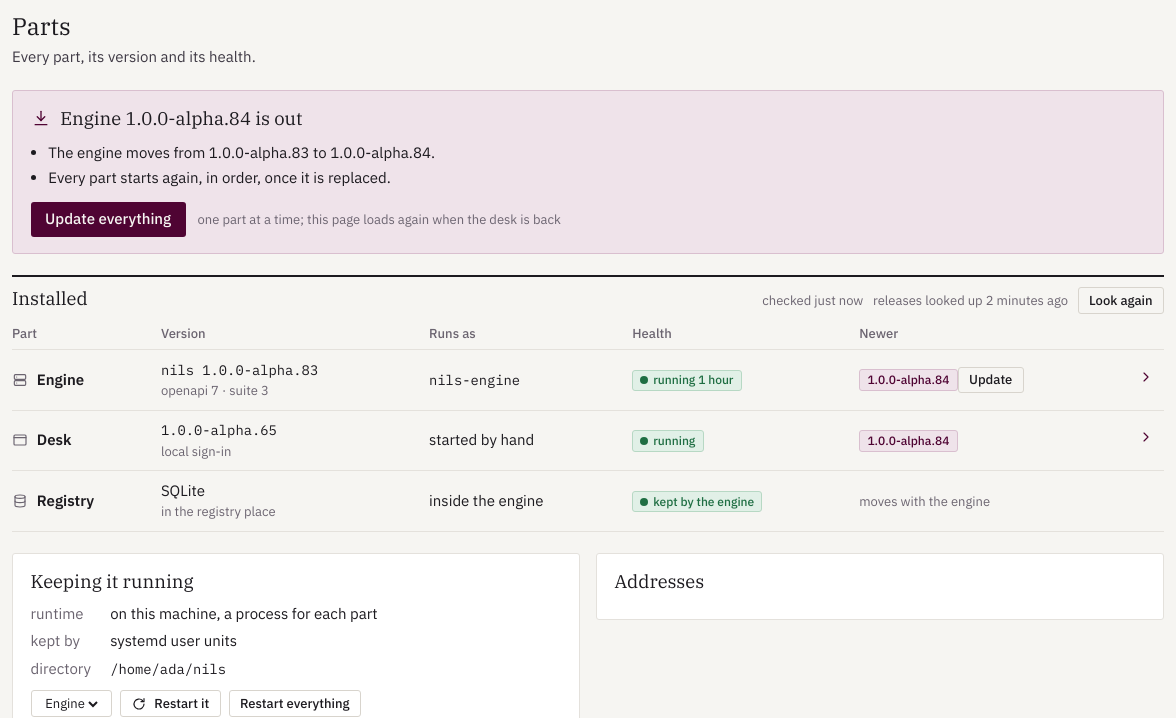
it: the Parts page › says why when the look could not be made
Step 1. Click the button "Look again" → [1121, 300], box [1078,287,1164,314]
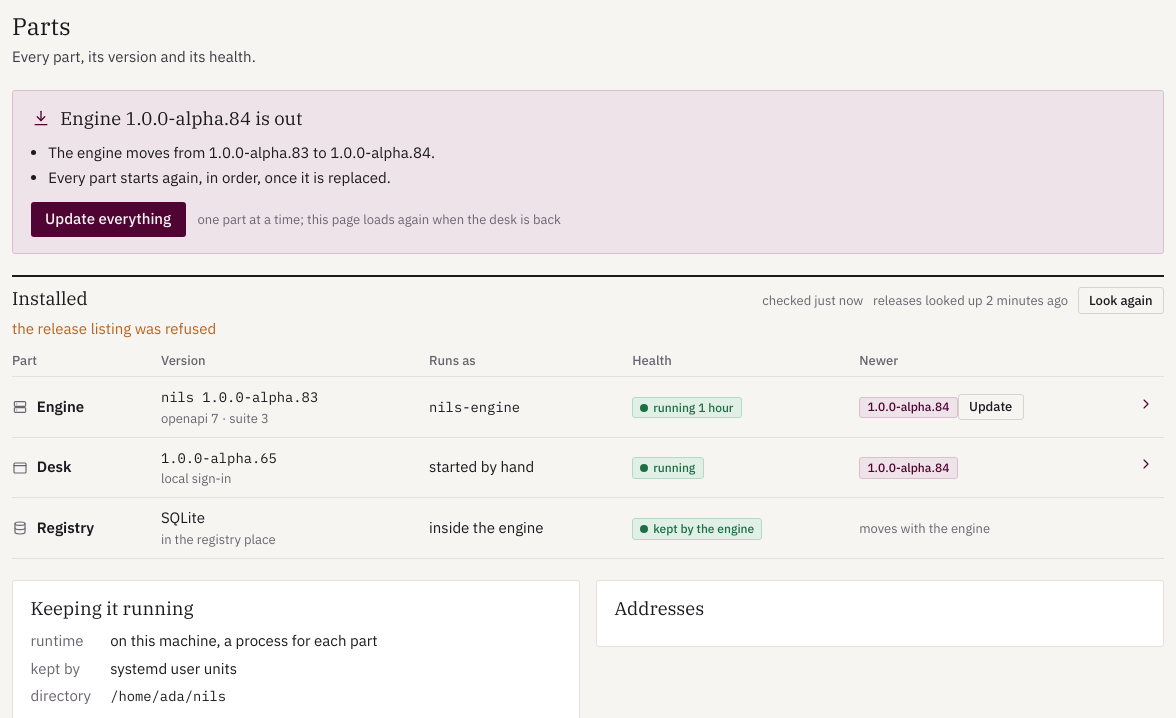
Expected: the text "the release listing was refused" is shown, [12,319,216,338]
